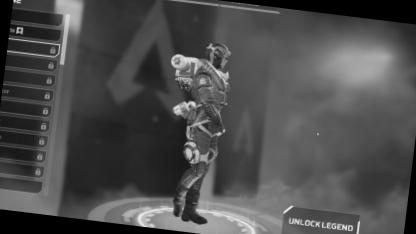Target: (154, 34, 236, 193)
